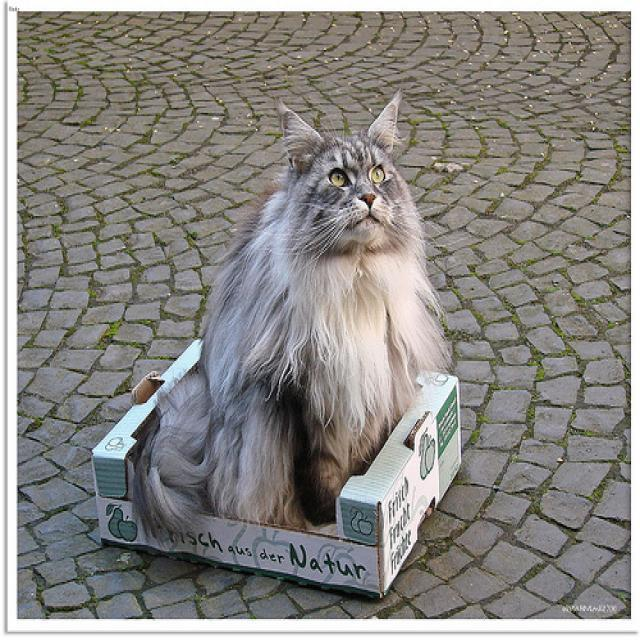Maine_Coon: (278, 92, 398, 242)
